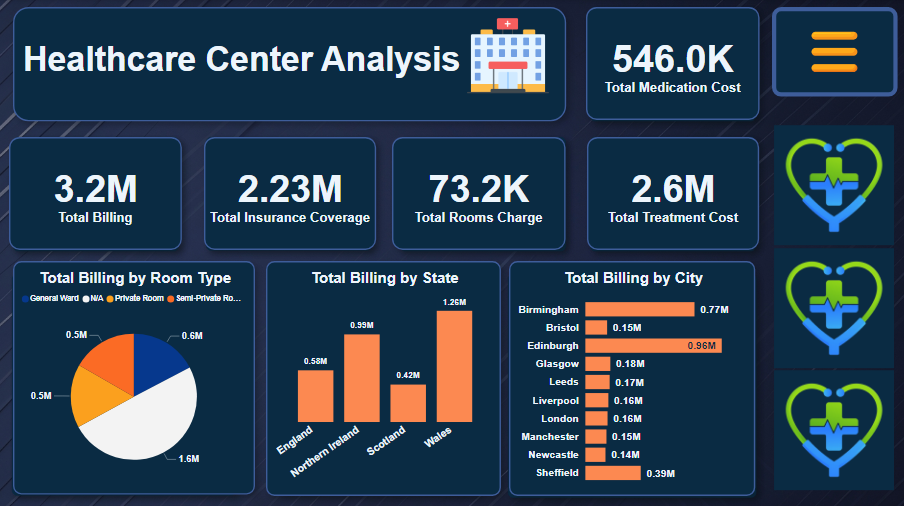

This screenshot's page, from the dashboard's own definition file:
{"tool":"powerbi","page":{"name":"Page 1","canvas":[1280,720],"ordinal":0},"visuals":[{"type":"slicer","fields":{"Values":["patients.Gender"]},"box":[1093.1,155.2,177.4,87],"z":1000},{"type":"slicer","fields":{"Values":["patients.Race"]},"box":[1093.1,239.9,177.4,87.9],"z":2000},{"type":"slicer","fields":{"Values":["visits.Date of Visit.Variation.Date Hierarchy.Quarter"]},"box":[1093.1,327.8,177.4,87],"z":3000},{"type":"image","box":[1091.3,11.3,178.6,127.6],"z":5000},{"type":"actionButton","box":[1092.2,589.4,171.4,62],"z":6000},{"type":"actionButton","box":[1093.9,506.1,171.4,62],"z":7000},{"type":"shape","title":"Healthcare Analysis","box":[18,11.4,783.7,161.6],"z":8000},{"type":"shape","box":[18,195.9,235.1,161.6],"z":9000},{"type":"shape","box":[292.2,195.4,234.8,161.3],"z":10000},{"type":"shape","box":[566.5,195.9,235.1,161.6],"z":11000},{"type":"shape","box":[835.9,195.9,235.1,161.6],"z":12000},{"type":"shape","box":[835.9,11.4,235.1,161.6],"z":13000},{"type":"shape","box":[17.4,389.1,316.6,314],"z":14000},{"type":"shape","box":[720.5,389.1,351.5,316.6],"z":15000},{"type":"card","fields":{"Values":["KPIs.Total Billing"]},"box":[18.4,195.6,239.5,158.7],"z":19000},{"type":"card","fields":{"Values":["KPIs.Total Insurance Coverage"]},"box":[288.6,195.4,243.8,159.6],"z":20000},{"type":"card","fields":{"Values":["KPIs.Total Rooms Charge"]},"box":[555.7,195.4,245.6,159.6],"z":21000},{"type":"card","fields":{"Values":["KPIs.Total Treatment Cost"]},"box":[831.8,195.4,243.8,159.6],"z":22000},{"type":"card","fields":{"Values":["KPIs.Total Medication Cost"]},"box":[830,10.8,245.6,159.6],"z":23000},{"type":"textbox","box":[32.3,25.1,756.5,130.9],"z":24000},{"type":"image","box":[652.5,10.8,136.2,138],"z":25000},{"type":"clusteredBarChart","title":" Total Billing by City ","fields":{"Category":["cities.City"],"Y":["Sum(visits.Total Billing)"]},"box":[721.4,371.3,354.3,333.1],"z":26000},{"type":"shape","box":[393.3,388.4,285.2,314.7],"z":27000},{"type":"clusteredColumnChart","title":" Total Billing by State","fields":{"Category":["cities.State"],"Y":["Sum(visits.Total Billing)"]},"box":[377,372,332.7,332.7],"z":28000},{"type":"pieChart","title":" Total Billing by Room Type","fields":{"Y":["Sum(visits.Total Billing)"],"Category":["visits.Room Type"]},"box":[18,372,342.5,331.1],"z":29000}]}

Visuals, with their boxes in screenshot pixels (x1, y1, x2, y2), scaled from the page's 1280x720 canvas onto the 904x506 screenshot:
slicer - patients.Gender: detection(772, 109, 897, 170)
slicer - patients.Race: detection(772, 169, 897, 230)
slicer - visits.Date of Visit.Variation.Date Hierarchy.Quarter: detection(772, 230, 897, 292)
image: detection(771, 8, 897, 98)
actionButton: detection(771, 414, 892, 458)
actionButton: detection(773, 356, 894, 399)
"Healthcare Analysis" shape: detection(13, 8, 566, 122)
shape: detection(13, 138, 179, 251)
shape: detection(206, 137, 372, 251)
shape: detection(400, 138, 566, 251)
shape: detection(590, 138, 756, 251)
shape: detection(590, 8, 756, 122)
shape: detection(12, 273, 236, 494)
shape: detection(509, 273, 757, 496)
card - KPIs.Total Billing: detection(13, 137, 182, 249)
card - KPIs.Total Insurance Coverage: detection(204, 137, 376, 249)
card - KPIs.Total Rooms Charge: detection(392, 137, 566, 249)
card - KPIs.Total Treatment Cost: detection(587, 137, 760, 249)
card - KPIs.Total Medication Cost: detection(586, 8, 760, 120)
textbox: detection(23, 18, 557, 110)
image: detection(461, 8, 557, 105)
" Total Billing by City " clusteredBarChart: detection(509, 261, 760, 495)
shape: detection(278, 273, 479, 494)
" Total Billing by State" clusteredColumnChart: detection(266, 261, 501, 495)
" Total Billing by Room Type" pieChart: detection(13, 261, 255, 494)
